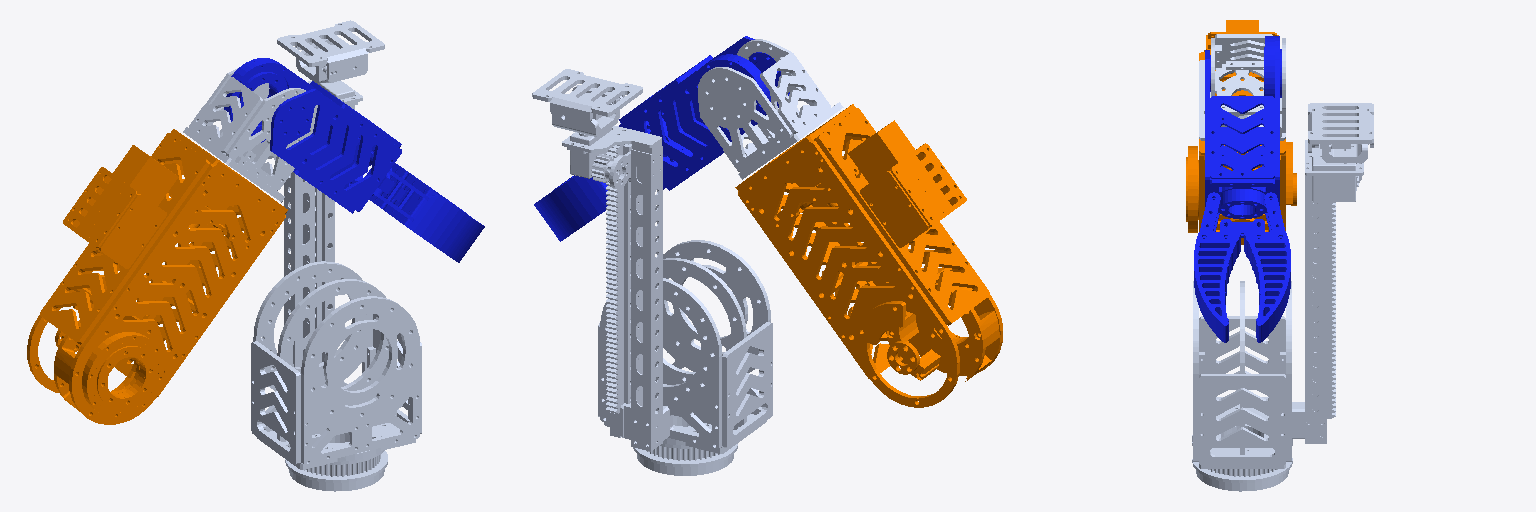
robot.urdf — yandy_urdf:
<?xml version="1.0" encoding="utf-8"?>
<!-- This URDF was automatically created by SolidWorks to URDF Exporter! Originally created by [author] ([email redacted]) 
     Commit Version: 1.6.0-4-g7f85cfe  Build Version: 1.6.7995.38578
     For more information, please see http://wiki.ros.org/sw_urdf_exporter -->
<robot
  name="yandy_urdf">
  <link
    name="base_link">
    <inertial>
      <origin
        xyz="0.0358893809745529 -0.0221497042600049 0.0647184449003854"
        rpy="0 0 0" />
      <mass
        value="5.66689591232295" />
      <inertia
        ixx="0.0156897638754432"
        ixy="2.89869909744743E-07"
        ixz="-8.60809414328832E-07"
        iyy="0.0242244692916892"
        iyz="9.75645777202438E-06"
        izz="0.0289080690535534" />
    </inertial>
    <visual>
      <origin
        xyz="0 0 0"
        rpy="0 0 0" />
      <geometry>
        <mesh
          filename="meshes/base_link.STL" />
      </geometry>
      <material
        name="">
        <color
          rgba="0.752941176470588 0.752941176470588 0.752941176470588 1" />
      </material>
    </visual>
    <collision>
      <origin
        xyz="0 0 0"
        rpy="0 0 0" />
      <geometry>
        <mesh
          filename="meshes/base_link.STL" />
      </geometry>
    </collision>
  </link>
  <link
    name="link_1">
    <inertial>
      <origin
        xyz="0.00120128599198002 0.0337771047034724 0.07247421110189"
        rpy="0 0 0" />
      <mass
        value="1.44819766694536" />
      <inertia
        ixx="0.00308654902466829"
        ixy="-1.92336869961938E-06"
        ixz="-1.18107010856862E-07"
        iyy="0.00351993825377993"
        iyz="-2.81171200070315E-07"
        izz="0.00123087646824348" />
    </inertial>
    <visual>
      <origin
        xyz="0 0 0"
        rpy="0 0 0" />
      <geometry>
        <mesh
          filename="meshes/link_1.STL" />
      </geometry>
      <material
        name="">
        <color
          rgba="0.866666666666667 0.909803921568627 1 1" />
      </material>
    </visual>
    <collision>
      <origin
        xyz="0 0 0"
        rpy="0 0 0" />
      <geometry>
        <mesh
          filename="meshes/link_1.STL" />
      </geometry>
    </collision>
  </link>
  <joint
    name="joint_1"
    type="revolute">
    <origin
      xyz="0.0476510115539754 -0.0233859859702091 0.11487414900293"
      rpy="0 0 0" />
    <parent
      link="base_link" />
    <child
      link="link_1" />
    <axis
      xyz="0 0 1" />
    <limit
      lower="-2.4"
      upper="2.4"
      effort="50"
      velocity="8" />
  </joint>
  <link
    name="link_2">
    <inertial>
      <origin
        xyz="0.100900513314298 0.0143258516877563 0.043109209494431"
        rpy="0 0 0" />
      <mass
        value="1.01543198954596" />
      <inertia
        ixx="0.000912503408608008"
        ixy="-0.000492616872738627"
        ixz="-6.99065340786467E-09"
        iyy="0.00363006838481718"
        iyz="-7.27266054120355E-09"
        izz="0.00397060930491578" />
    </inertial>
    <visual>
      <origin
        xyz="0 0 0"
        rpy="0 0 0" />
      <geometry>
        <mesh
          filename="meshes/link_2.STL" />
      </geometry>
      <material
        name="">
        <color
          rgba="1 0.549019607843137 0 1" />
      </material>
    </visual>
    <collision>
      <origin
        xyz="0 0 0"
        rpy="0 0 0" />
      <geometry>
        <mesh
          filename="meshes/link_2.STL" />
      </geometry>
    </collision>
  </link>
  <joint
    name="joint_2"
    type="revolute">
    <origin
      xyz="0 -0.0342999999999993 0.0899999999999964"
      rpy="1.5707963267949 0 3.14159265358979" />
    <parent
      link="link_1" />
    <child
      link="link_2" />
    <axis
      xyz="0 0 1" />
    <limit
      lower="0"
      upper="2.7"
      effort="50"
      velocity="8" />
  </joint>
  <link
    name="link_3">
    <inertial>
      <origin
        xyz="0.0416134688782345 0.0591865944856609 0.0371759236044524"
        rpy="0 0 0" />
      <mass
        value="1.3087461829584" />
      <inertia
        ixx="0.0020189555663457"
        ixy="-0.00100348930161565"
        ixz="2.70165784644995E-08"
        iyy="0.00181123479251691"
        iyz="8.07359526072103E-08"
        izz="0.00337508479536761" />
    </inertial>
    <visual>
      <origin
        xyz="0 0 0"
        rpy="0 0 0" />
      <geometry>
        <mesh
          filename="meshes/link_3.STL" />
      </geometry>
      <material
        name="">
        <color
          rgba="1 0.549019607843137 0 1" />
      </material>
    </visual>
    <collision>
      <origin
        xyz="0 0 0"
        rpy="0 0 0" />
      <geometry>
        <mesh
          filename="meshes/link_3.STL" />
      </geometry>
    </collision>
  </link>
  <joint
    name="joint_3"
    type="revolute">
    <origin
      xyz="0.246201938253051 0.043412044416735 0.0723000000000015"
      rpy="3.14159265358979 0 -3.14159265358979" />
    <parent
      link="link_2" />
    <child
      link="link_3" />
    <axis
      xyz="0 0 -1" />
    <limit
      lower="-3.2"
      upper="0"
      effort="50"
      velocity="8" />
  </joint>
  <link
    name="link_4">
    <inertial>
      <origin
        xyz="-1.21998585161376E-05 0.00140300397508433 -0.0059179091233469"
        rpy="0 0 0" />
      <mass
        value="0.479732829832372" />
      <inertia
        ixx="0.000200661027138766"
        ixy="-5.33379268405502E-07"
        ixz="8.1242460623188E-08"
        iyy="0.000211564027968875"
        iyz="1.56533802785616E-06"
        izz="0.000283482547086752" />
    </inertial>
    <visual>
      <origin
        xyz="0 0 0"
        rpy="0 0 0" />
      <geometry>
        <mesh
          filename="meshes/link_4.STL" />
      </geometry>
      <material
        name="">
        <color
          rgba="0.866666666666667 0.909803921568627 1 1" />
      </material>
    </visual>
    <collision>
      <origin
        xyz="0 0 0"
        rpy="0 0 0" />
      <geometry>
        <mesh
          filename="meshes/link_4.STL" />
      </geometry>
    </collision>
  </link>
  <joint
    name="joint_4"
    type="revolute">
    <origin
      xyz="0.142524819154464 0.158289847826683 0.037999999999854"
      rpy="-1.57079632679561 0 -0.733038285837583" />
    <parent
      link="link_3" />
    <child
      link="link_4" />
    <axis
      xyz="0 0 1" />
    <limit
        lower="-6.28"
        upper="6.28"
        effort="50"
        velocity="8" />
  </joint>
  <link
    name="link_5">
    <inertial>
      <origin
        xyz="0.0432563888639942 -0.000103178221333794 0.0332851366903483"
        rpy="0 0 0" />
      <mass
        value="0.829074880083356" />
      <inertia
        ixx="0.000261517869575779"
        ixy="5.48281524607387E-07"
        ixz="-1.59067348925722E-07"
        iyy="0.000434479926841486"
        iyz="2.40009595411019E-07"
        izz="0.000517620897315582" />
    </inertial>
    <visual>
      <origin
        xyz="0 0 0"
        rpy="0 0 0" />
      <geometry>
        <mesh
          filename="meshes/link_5.STL" />
      </geometry>
      <material
        name="">
        <color
          rgba="0.137254901960784 0.188235294117647 1 1" />
      </material>
    </visual>
    <collision>
      <origin
        xyz="0 0 0"
        rpy="0 0 0" />
      <geometry>
        <mesh
          filename="meshes/link_5.STL" />
      </geometry>
    </collision>
  </link>
  <joint
    name="joint_5"
    type="revolute">
    <origin
      xyz="0 0.034000000000019 0.0599999999999983"
      rpy="1.5707963267949 0 0" />
    <parent
      link="link_4" />
    <child
      link="link_5" />
    <axis
      xyz="0 0 1" />
    <limit
      lower="0"
      upper="3.14"
      effort="50"
      velocity="8" />
  </joint>
  <link name="gripper_tcp">
      <inertial>
        <mass value="0.001" />
        <origin xyz="0 0 0" rpy="0 0 0" />
        <inertia ixx="1e-6" ixy="0" ixz="0" iyy="1e-6" iyz="0" izz="1e-6" />
      </inertial>
  </link>
  <joint name="joint_tcp" type="fixed">
      <parent link="link_5" />
      <child link="gripper_tcp" />
      <origin xyz="0.2 0 0.035" rpy="0 0 0" />
  </joint>
</robot>

--- Facts derived from the render (not from the file) ---
Views: 3 orthographic renders of the robot side by side, from view 1: azimuth 30°, elevation 25°; view 2: azimuth 150°, elevation 25°; view 3: azimuth 270°, elevation 25°.
Model yandy_urdf with 7 links and 6 joints (5 revolute, 1 fixed), rooted at base_link, posed all joints at 0.
Links seen in each view (by area): view 1: link_3, link_1, link_5, link_4; view 2: link_1, link_3, link_5, link_4; view 3: link_1, link_5, link_4, link_3.
Boxes of the visible links, x1,y1,x2,y2 form: link_3: [27, 129, 287, 424]; link_1: [251, 20, 421, 491]; link_5: [224, 58, 484, 262]; link_4: [183, 68, 317, 202]; link_1: [532, 69, 772, 475]; link_3: [735, 104, 1002, 407]; link_5: [534, 36, 789, 241]; link_4: [698, 39, 843, 179]; link_1: [1192, 103, 1373, 491]; link_5: [1194, 36, 1290, 342]; link_4: [1199, 34, 1285, 140]; link_3: [1186, 20, 1296, 244].
Size in the robot's own frame: 0.439 by 0.1726 by 0.4073 metres.
4 mesh visuals loaded from 6 distinct referenced files (4 binary STL); not drawn: 2 (reference not matched to a file when rendering).
